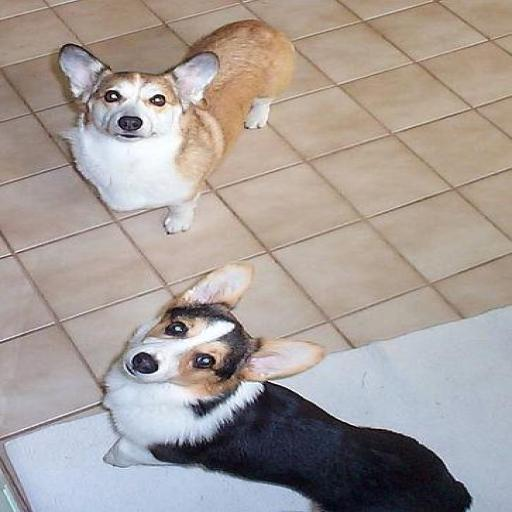dog_face: (118, 256, 318, 388), (48, 45, 216, 148)
